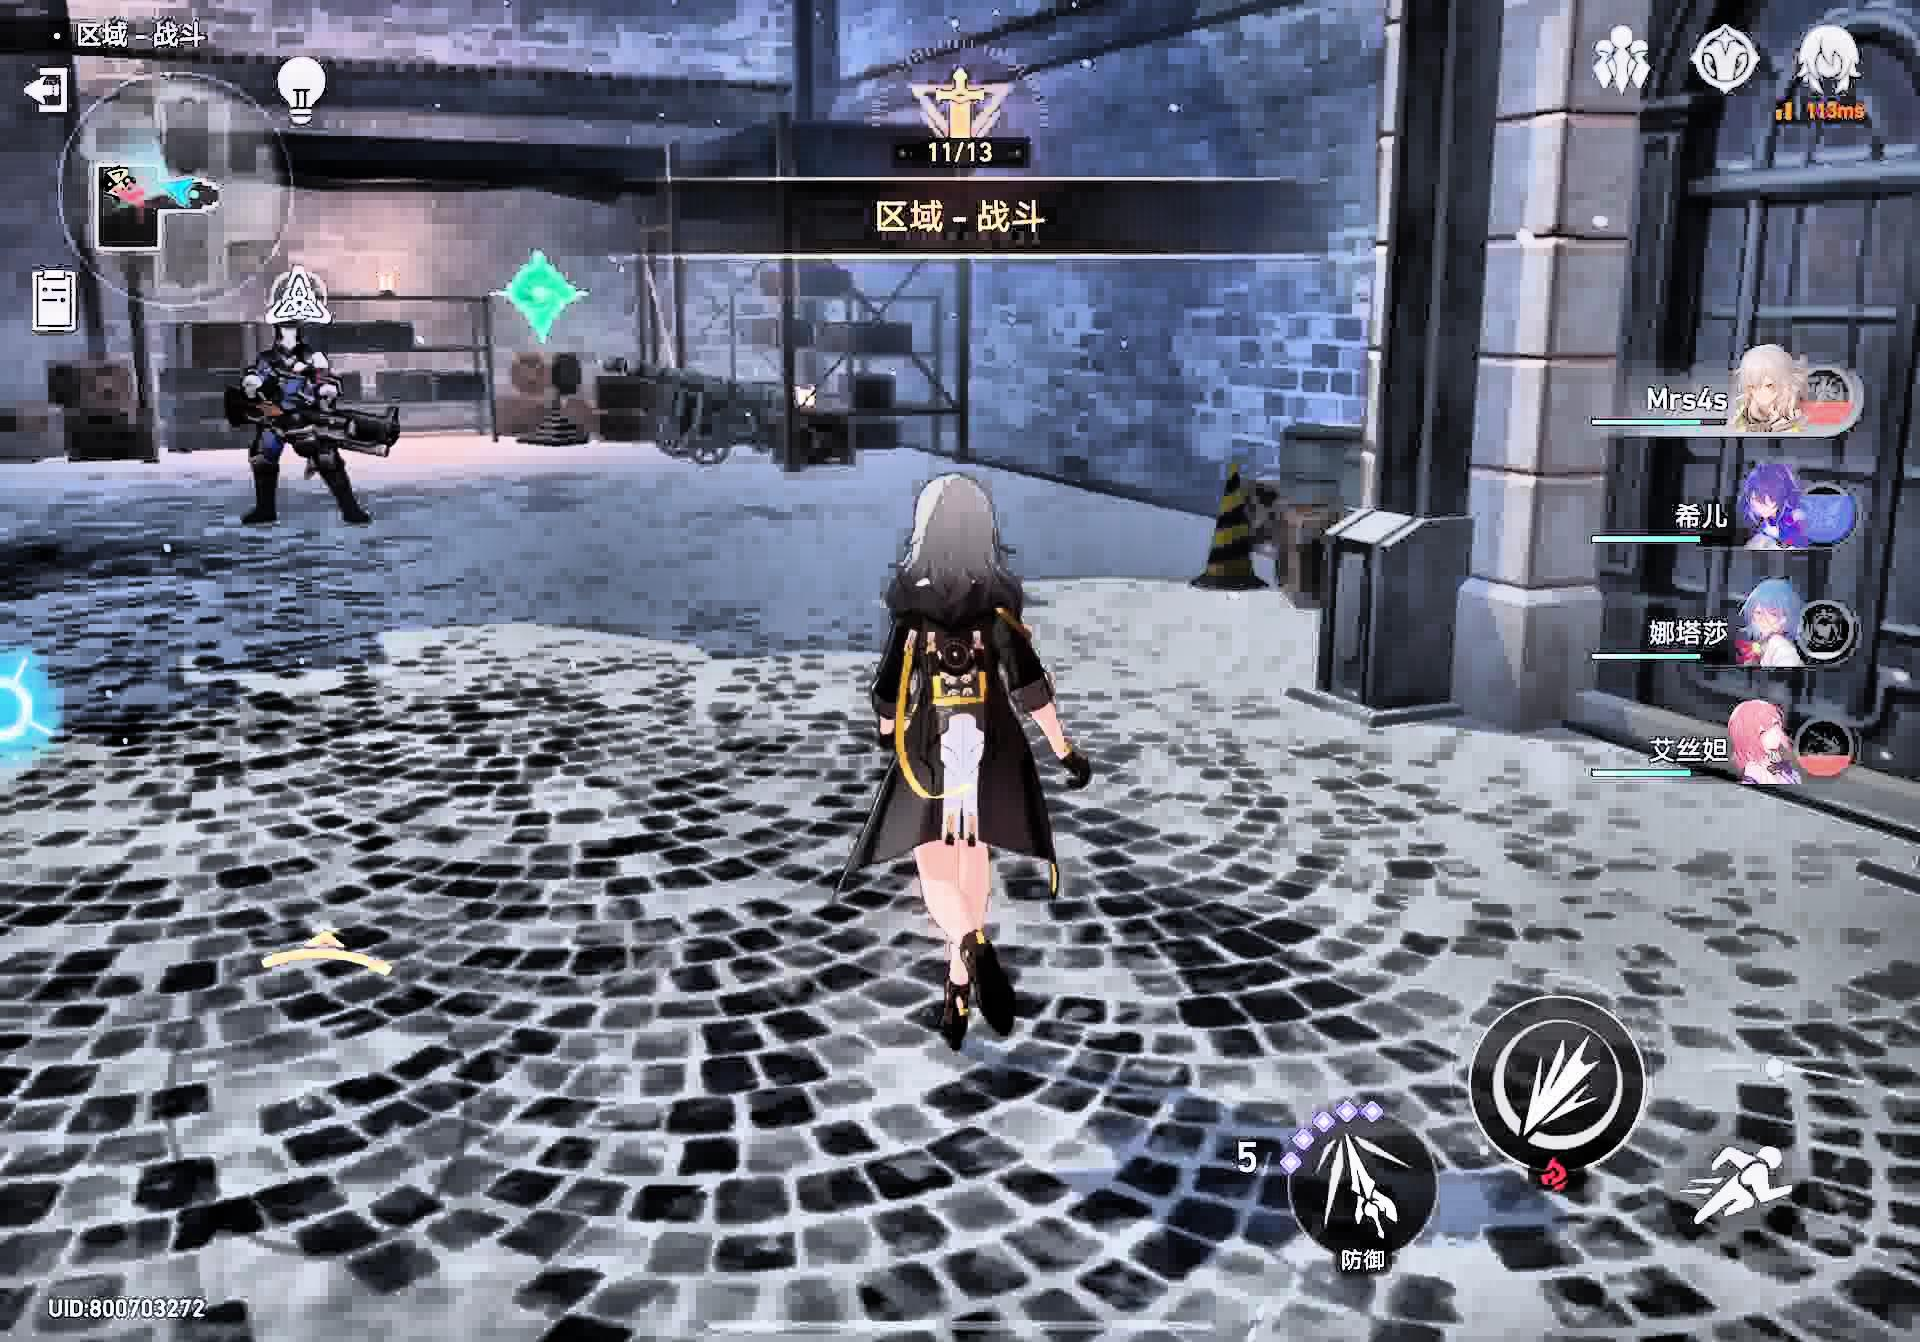Enemy: (222, 324, 400, 532)
SafeDoor: (487, 248, 595, 350)
Self: (864, 476, 1088, 1069)
